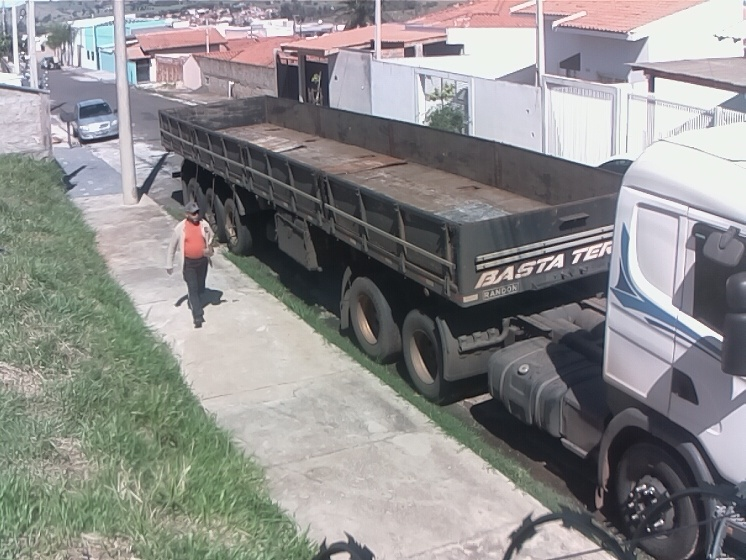person: (166, 199, 222, 330)
